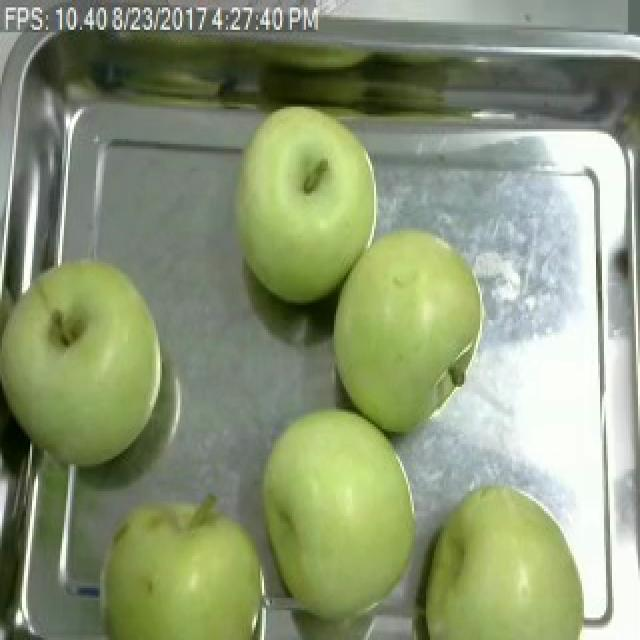50-_ripeness: (0, 253, 180, 451), (338, 214, 497, 434), (258, 404, 416, 618), (230, 94, 386, 310), (432, 461, 580, 640), (96, 491, 262, 640)
